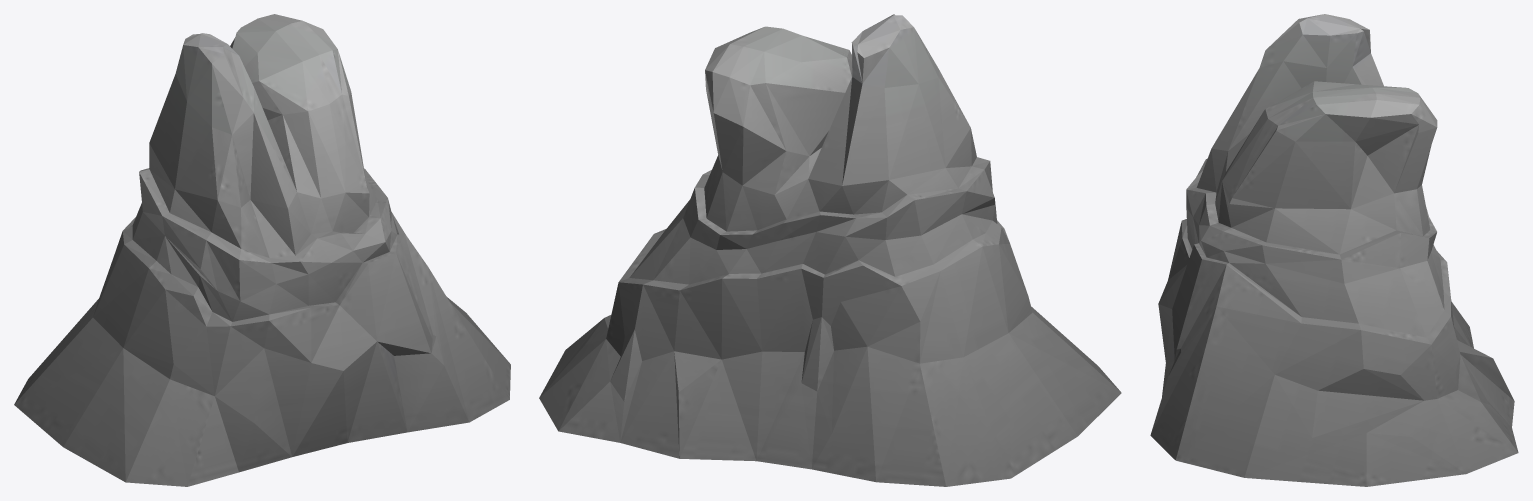
File: mountain_tall.glb
3 renders of one model, left to right at view 1: azimuth 30°, elevation 25°; view 2: azimuth 150°, elevation 25°; view 3: azimuth 270°, elevation 25°, orthographic. The views are drawn at different scales.
Visible parts, largest first — view 1: mountain_tall; view 2: mountain_tall; view 3: mountain_tall.
Part boxes in pixels (left/top/right/bottom): mountain_tall: left=14, top=14, right=510, bottom=486; mountain_tall: left=539, top=14, right=1121, bottom=486; mountain_tall: left=1150, top=14, right=1518, bottom=486.
Size of the model in its own units: 93.06 by 71.87 by 70.43.
1 material, 1 textured.
